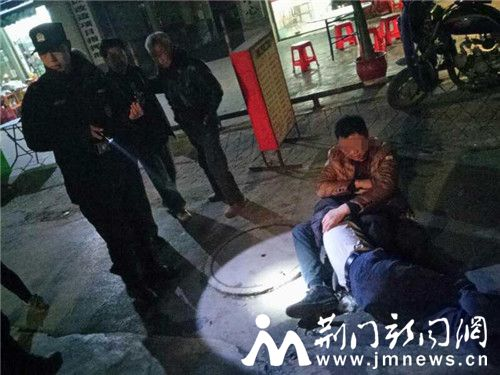fall: (277, 112, 421, 334)
